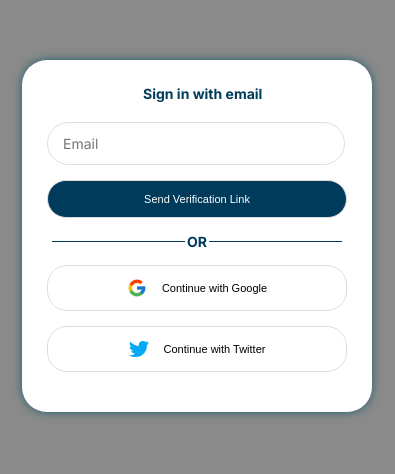
Test: SignIn Component › sends verification email
Type "test@example.com" into the field with placeholder "Email" at (196, 144), box left=47, top=122, right=345, bottom=165
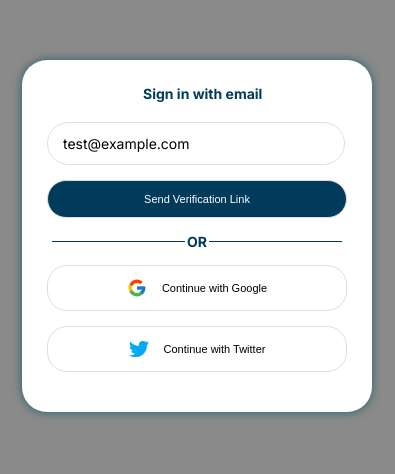
Click the button "Send Verification Link" at (197, 199), box left=47, top=180, right=347, bottom=218
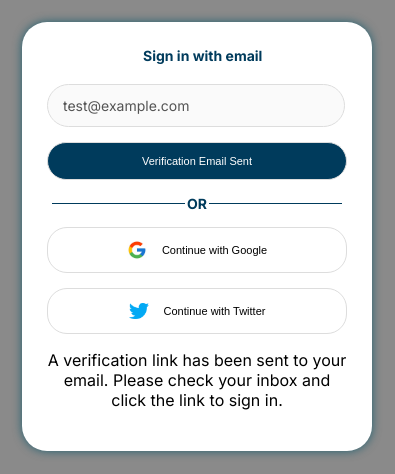
Result: the button "Verification Email Sent" is shown at left=47, top=142, right=347, bottom=180
